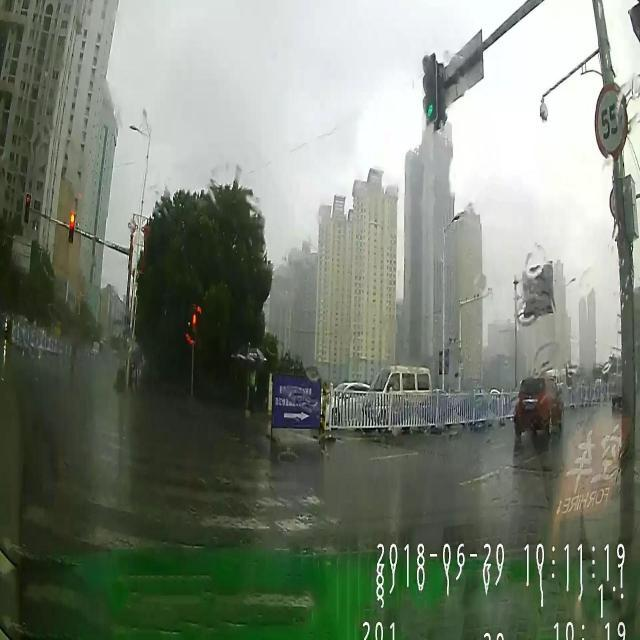car: (364, 365, 432, 426), (514, 375, 564, 440), (325, 378, 370, 422)
